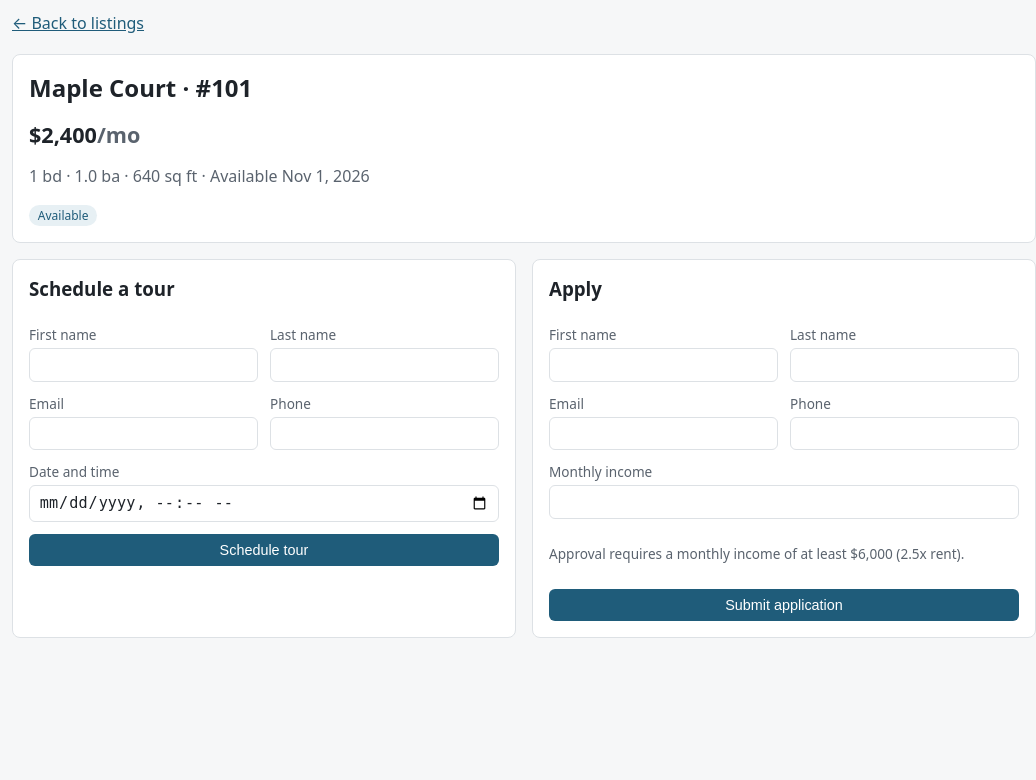
Test: UnitDetailPage › shows the API error when a tour time is already booked
The width and height of the screenshot is (1036, 780).
Type "Pat" into the field labelled "First name" below "Schedule a tour" at (144, 365), box [29, 348, 258, 382]
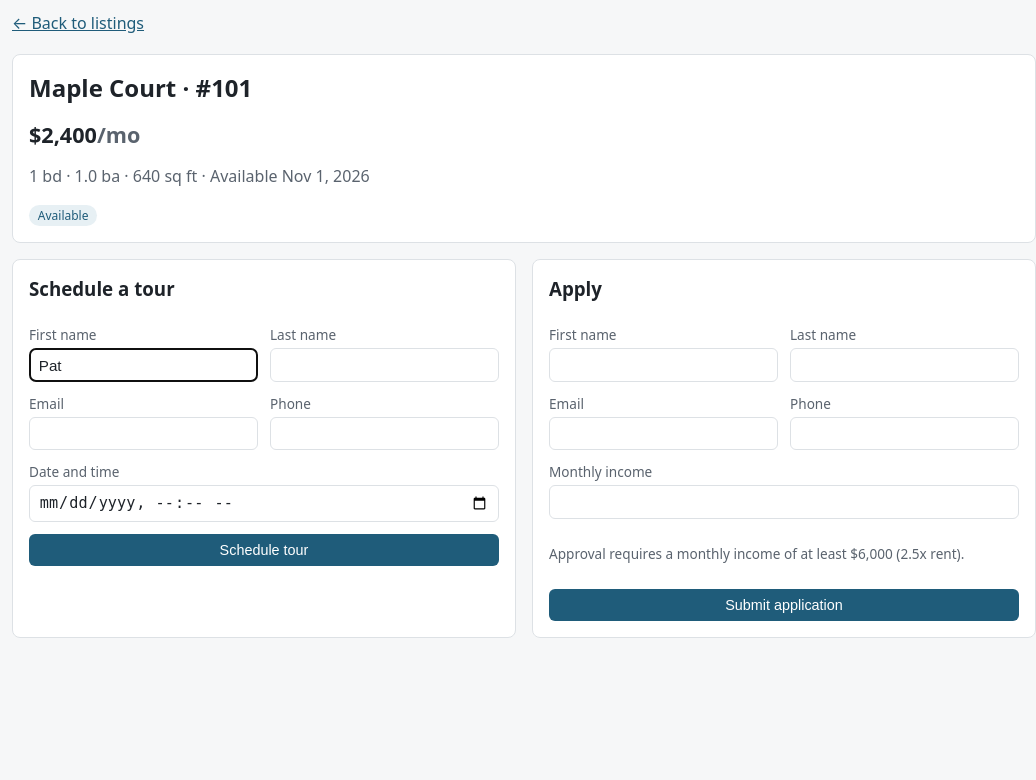
Type "Lee" into the field labelled "Last name" below "Schedule a tour" at (384, 365), box [270, 348, 499, 382]
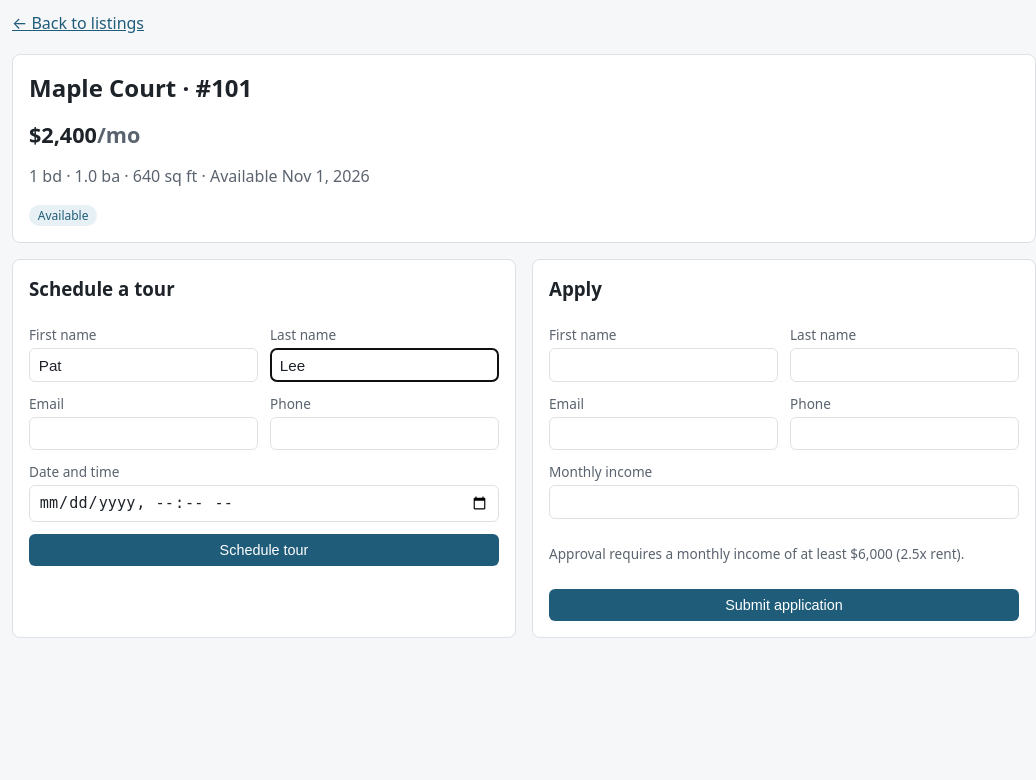
Type "pat@example.com" into the field labelled "Email" below "Schedule a tour" at (144, 434), box [29, 417, 258, 450]
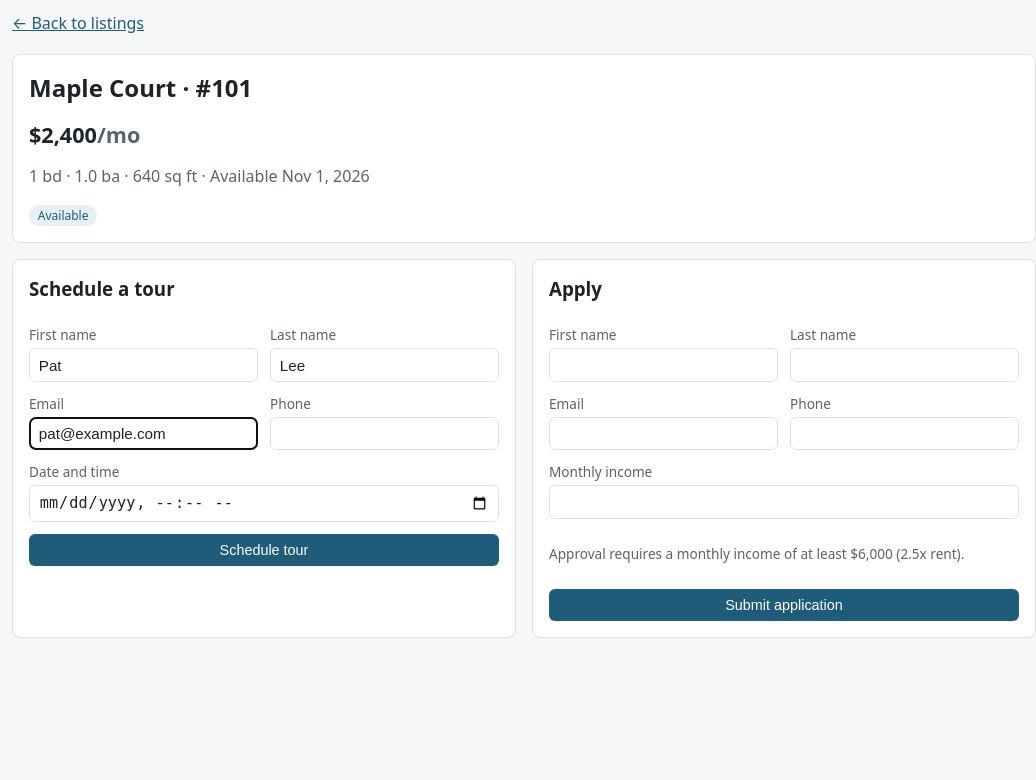
Type "2030-01-15T14:00" into the field labelled "Date and time" at (264, 503), box [29, 485, 499, 522]
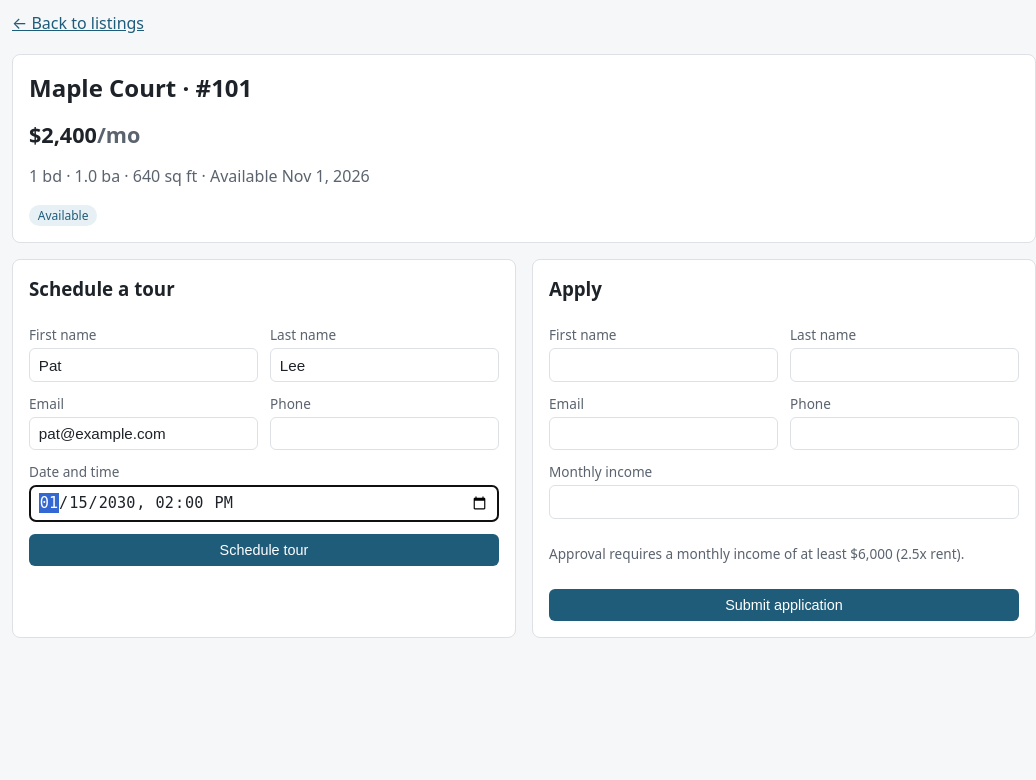
Click the button "Schedule tour" at (264, 550), box [29, 534, 499, 566]
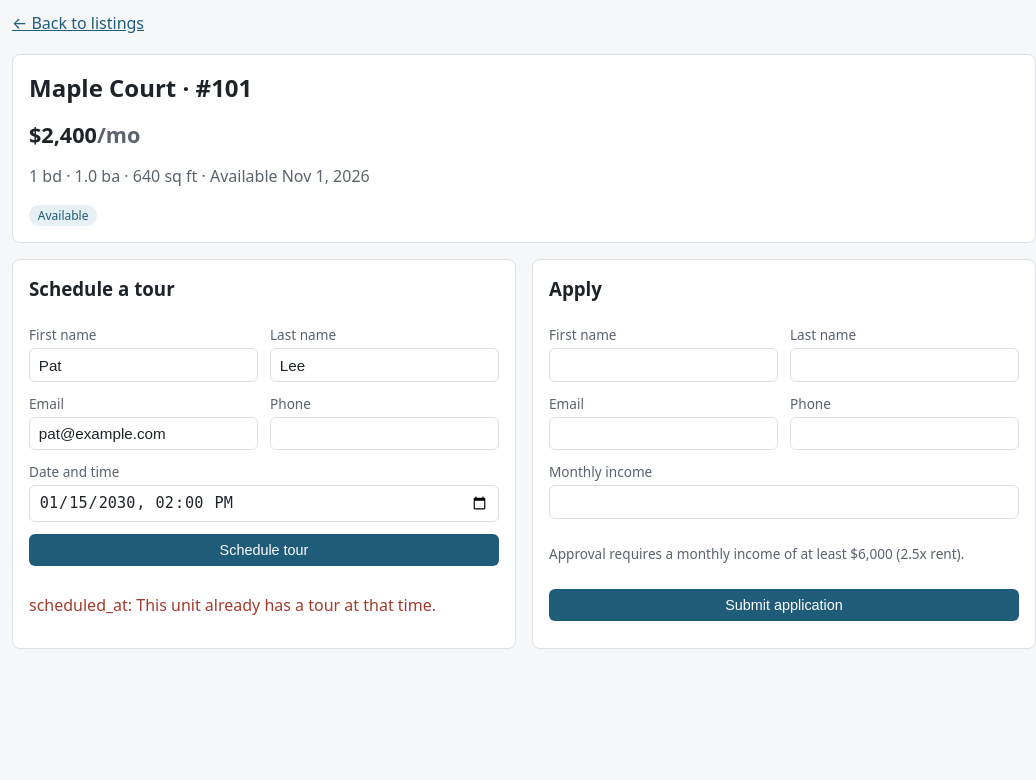
Check: the message shows "This unit already has a tour at that time.", box [29, 594, 436, 616]
